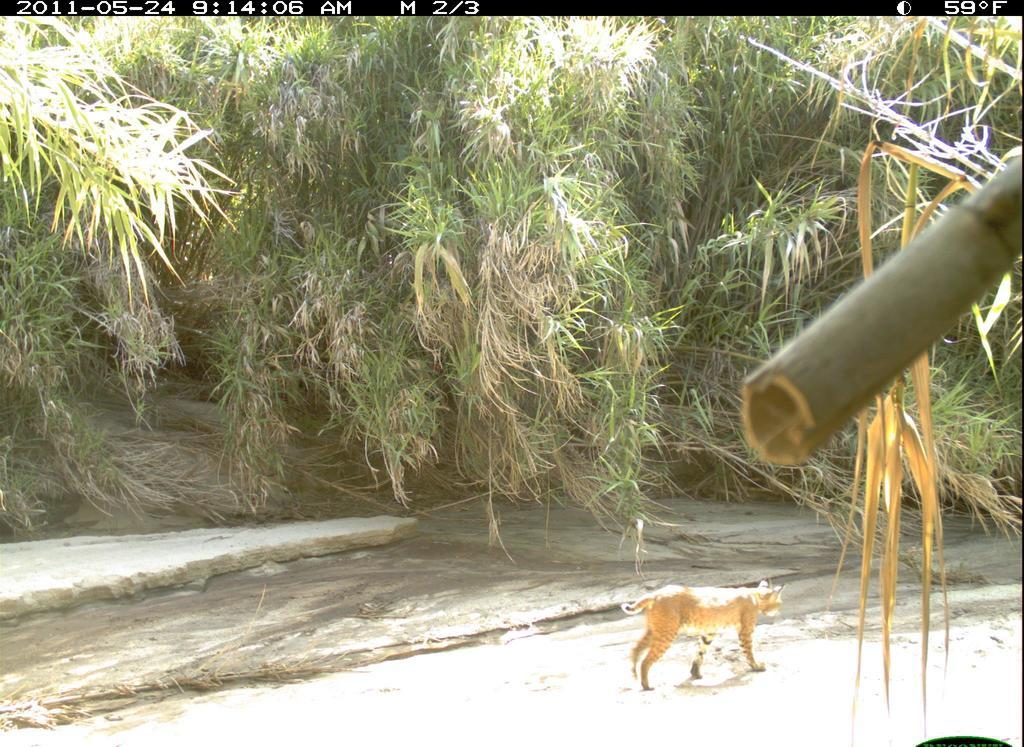bobcat: (619, 571, 797, 698)
